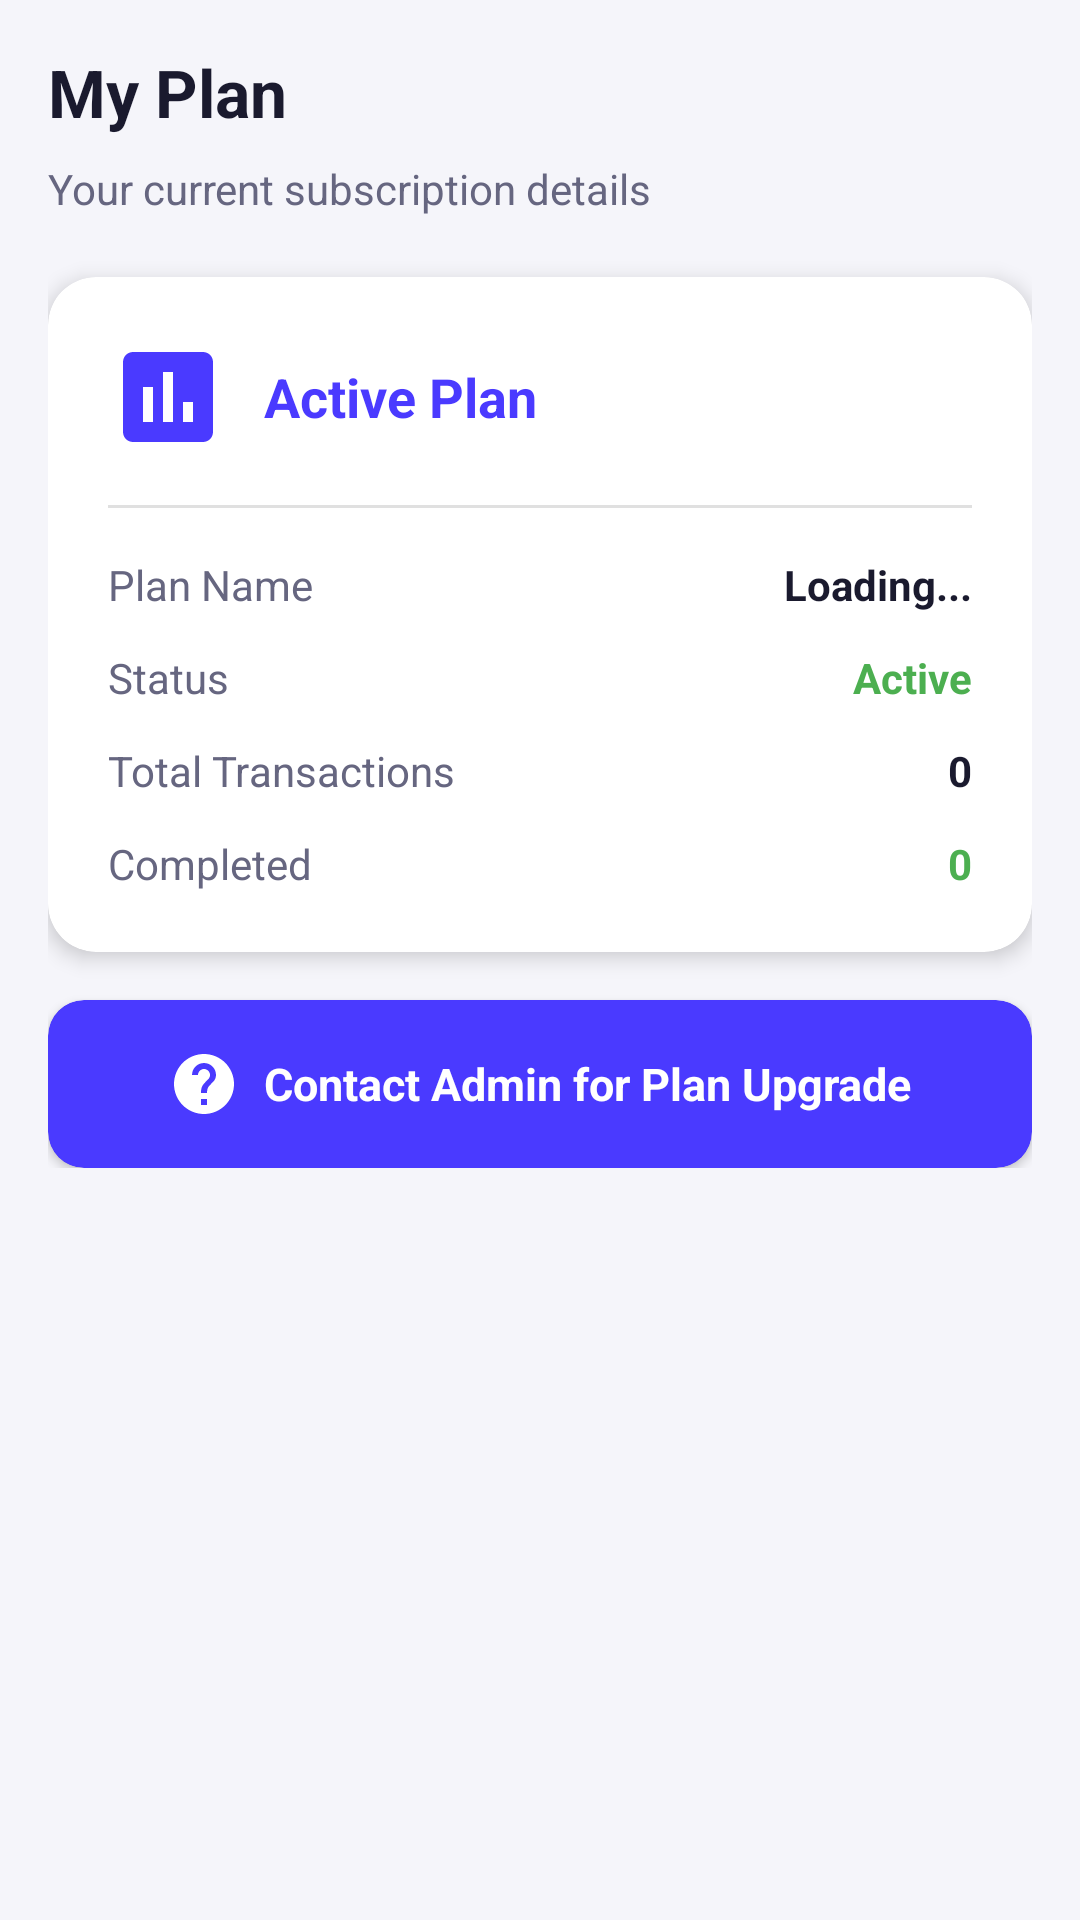

Named icons in this screenshot (1080 x 1920) and their bounding boxes, (x1, y1, x2, y2):
support: (174, 1054, 234, 1114)
